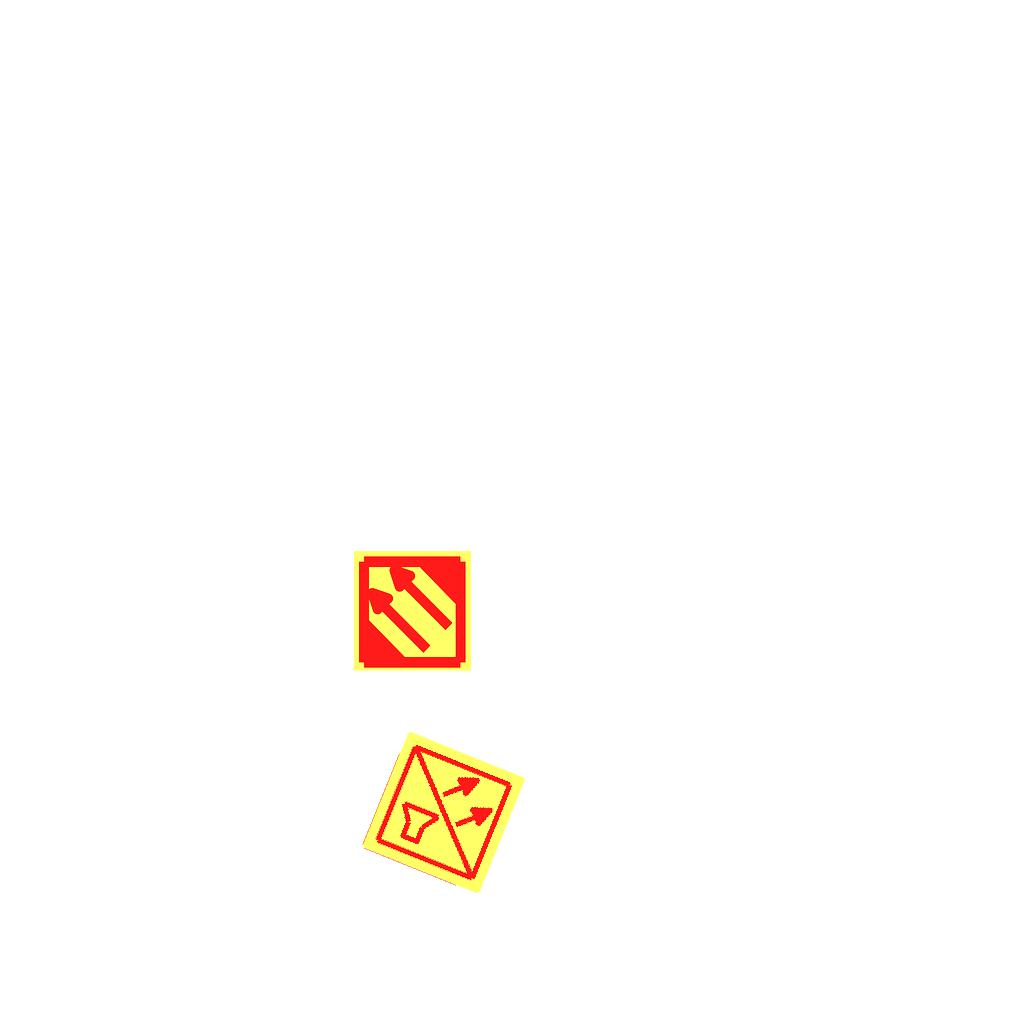ASR_Ansaugrauchmelder: (350, 548, 475, 673)
OKW_Multisensormelder_(Kombination_optischer_Rauch-Kahlenmonoxid_Waerme-Melder): (358, 727, 530, 899)
